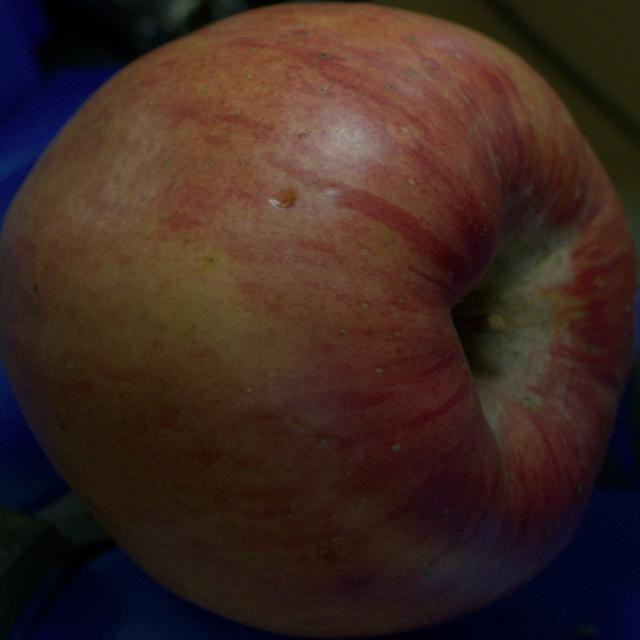apple: (0, 3, 636, 638)
scratch: (269, 189, 297, 208)
